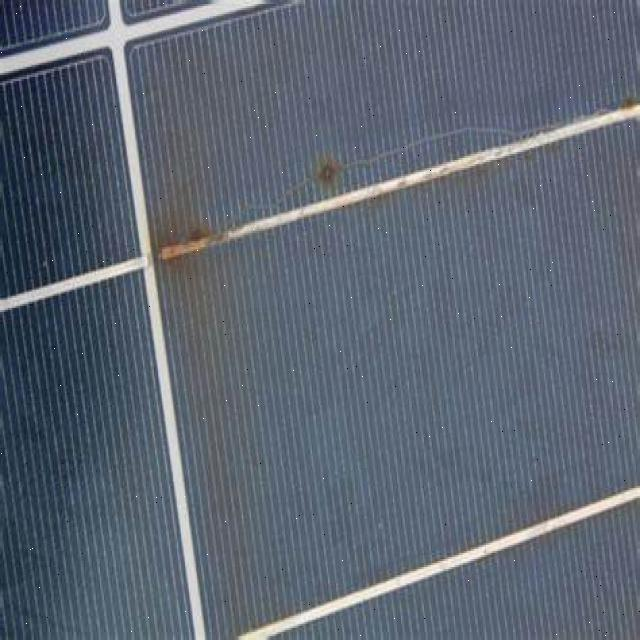Structural Damage: (341, 111, 534, 170), (156, 207, 232, 286), (231, 170, 314, 224), (302, 152, 352, 202), (613, 95, 640, 127)
